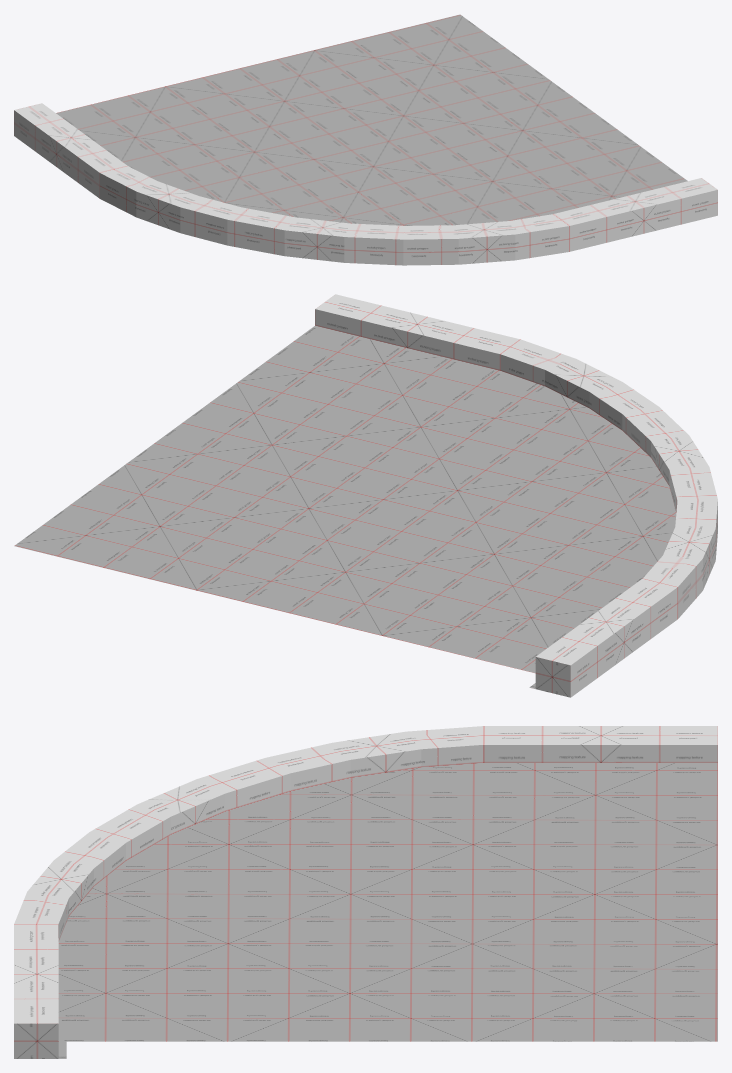
File: T_04_3x_round_b.FBX
3 views of the same model, one above another, from view 1: azimuth 30°, elevation 25°; view 2: azimuth 150°, elevation 25°; view 3: azimuth 270°, elevation 25° (orthographic). The views are drawn at different scales.
Visible parts, largest first — view 1: T_01_3x_round; view 2: T_01_3x_round; view 3: T_01_3x_round.
Part boxes in pixels (box(x1,y1,x2,y2)): T_01_3x_round: box(14, 14, 717, 265); T_01_3x_round: box(14, 294, 717, 697); T_01_3x_round: box(14, 726, 717, 1058).
Bounding box in the file's own units: 60.01 × 60.01 × 3.33.
